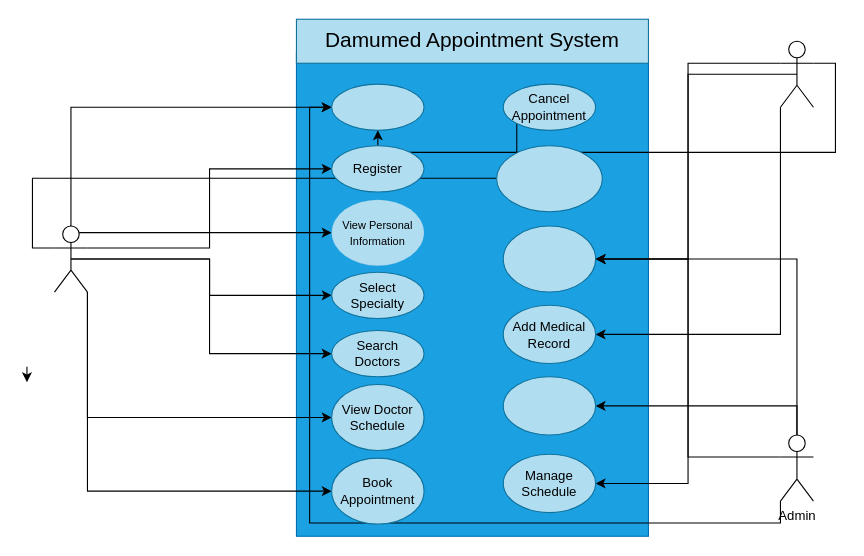
Some shapes in this 864 by 556 pixel diagram are drawn without their labels. The centre of each missing label's shape, as x and y in pixels:
Doctor: pixel 796 73
Login: pixel 377 106
Manage Appointments: pixel 549 258
Manage Doctors: pixel 549 405
Patient: pixel 70 258
View Medical Records: pixel 549 178
